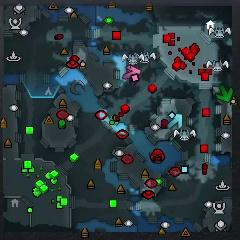x1: (122, 65, 142, 82)
x3: (167, 113, 184, 129)
x4: (216, 84, 233, 103)
